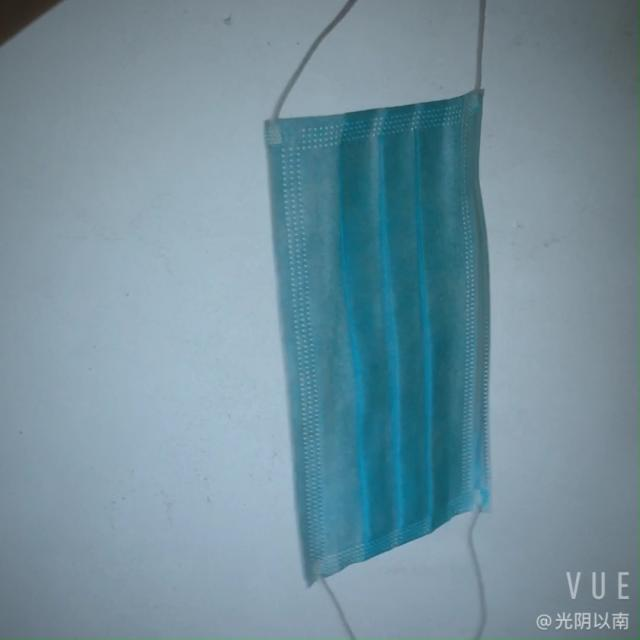face mask: (250, 82, 498, 588)
